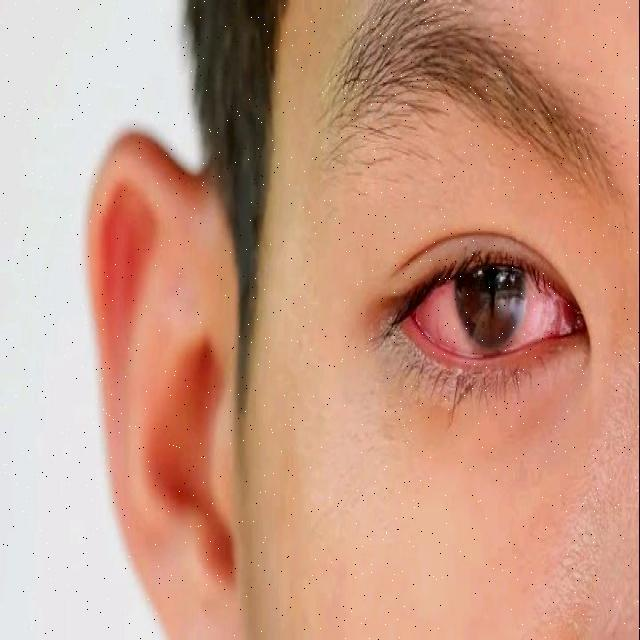Conjunctivitis: (407, 277, 580, 356)
